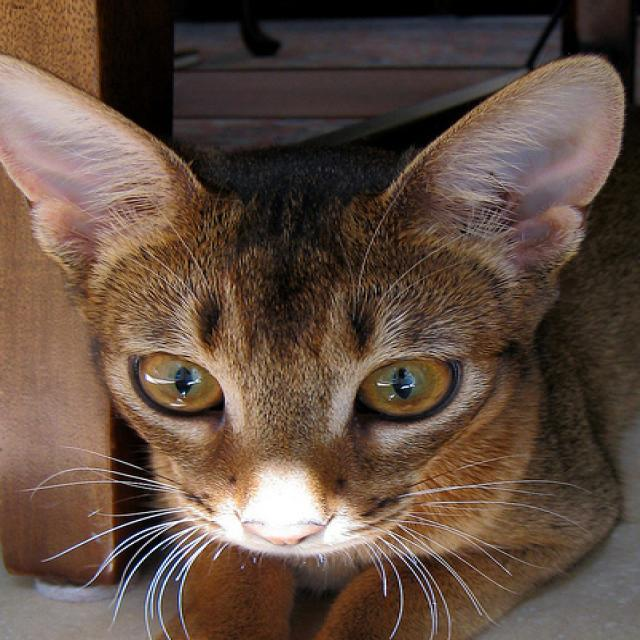Abyssinian: (0, 50, 630, 566)
